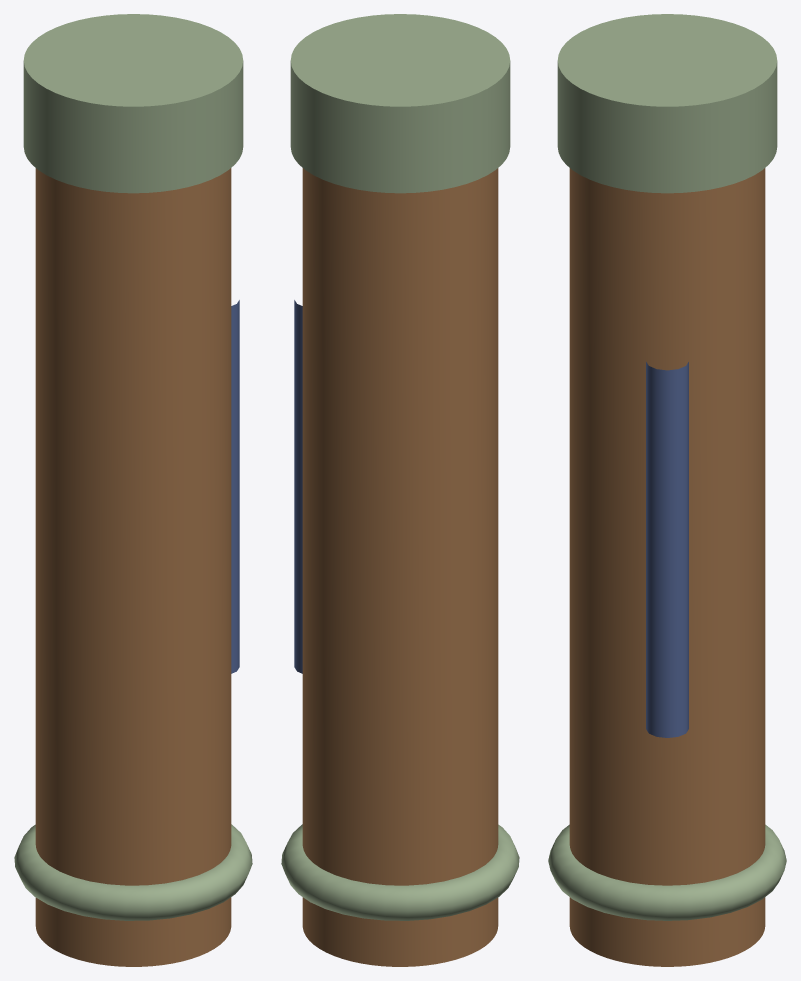
The model's file is desert-caravanserai-and-bazaar-sealed-document-tube-0c01df08__30470.glb.
3 renders of one model, left to right at view 1: azimuth 30°, elevation 25°; view 2: azimuth 150°, elevation 25°; view 3: azimuth 270°, elevation 25°, orthographic.
Visible parts, largest first — view 1: sealed-document-tube; view 2: sealed-document-tube; view 3: sealed-document-tube.
Boxes of the visible parts, x1,y1,x2,y2 form: sealed-document-tube: (14, 14, 252, 966); sealed-document-tube: (281, 14, 519, 966); sealed-document-tube: (548, 14, 786, 966).
Bounding box in the file's own units: 0.1 × 0.4 × 0.1.
